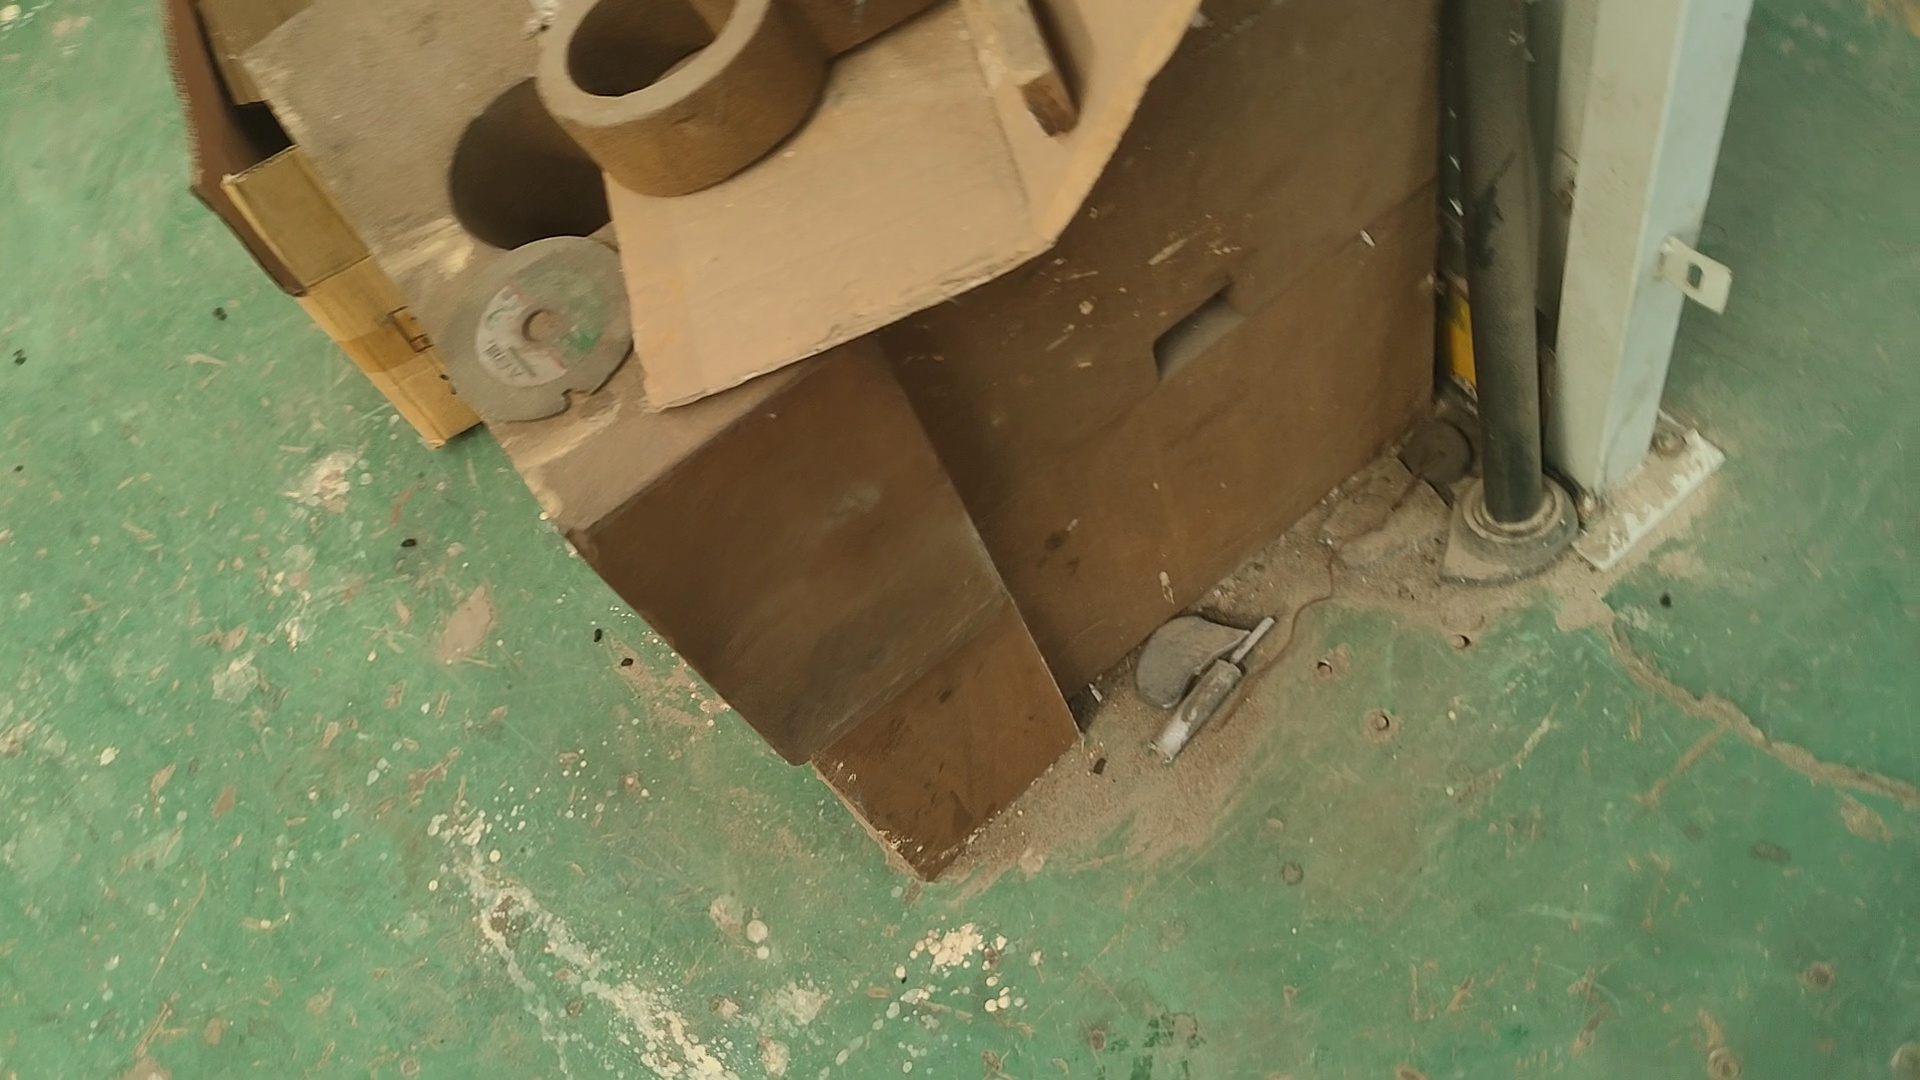pouring hole: (444, 70, 640, 249)
